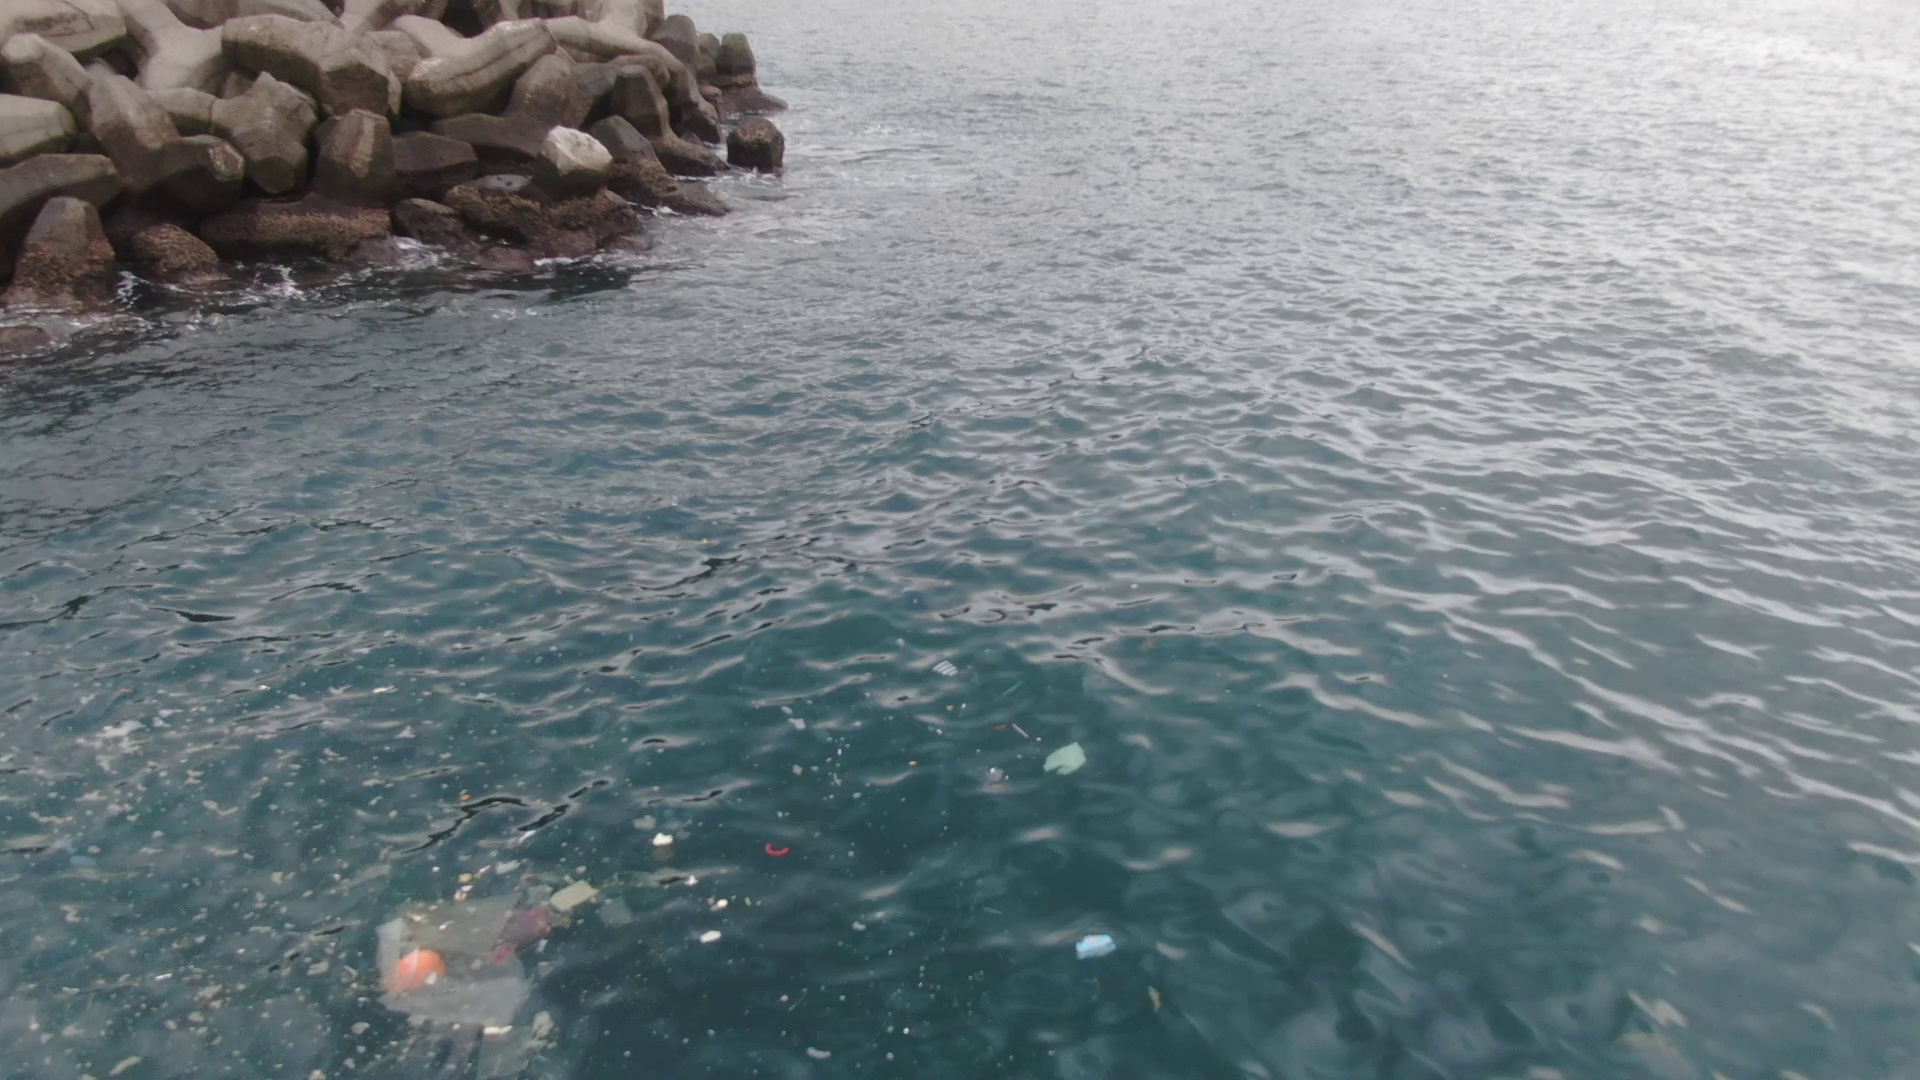garbage: (343, 795, 749, 1080), (1029, 727, 1098, 790), (1064, 926, 1130, 967)
